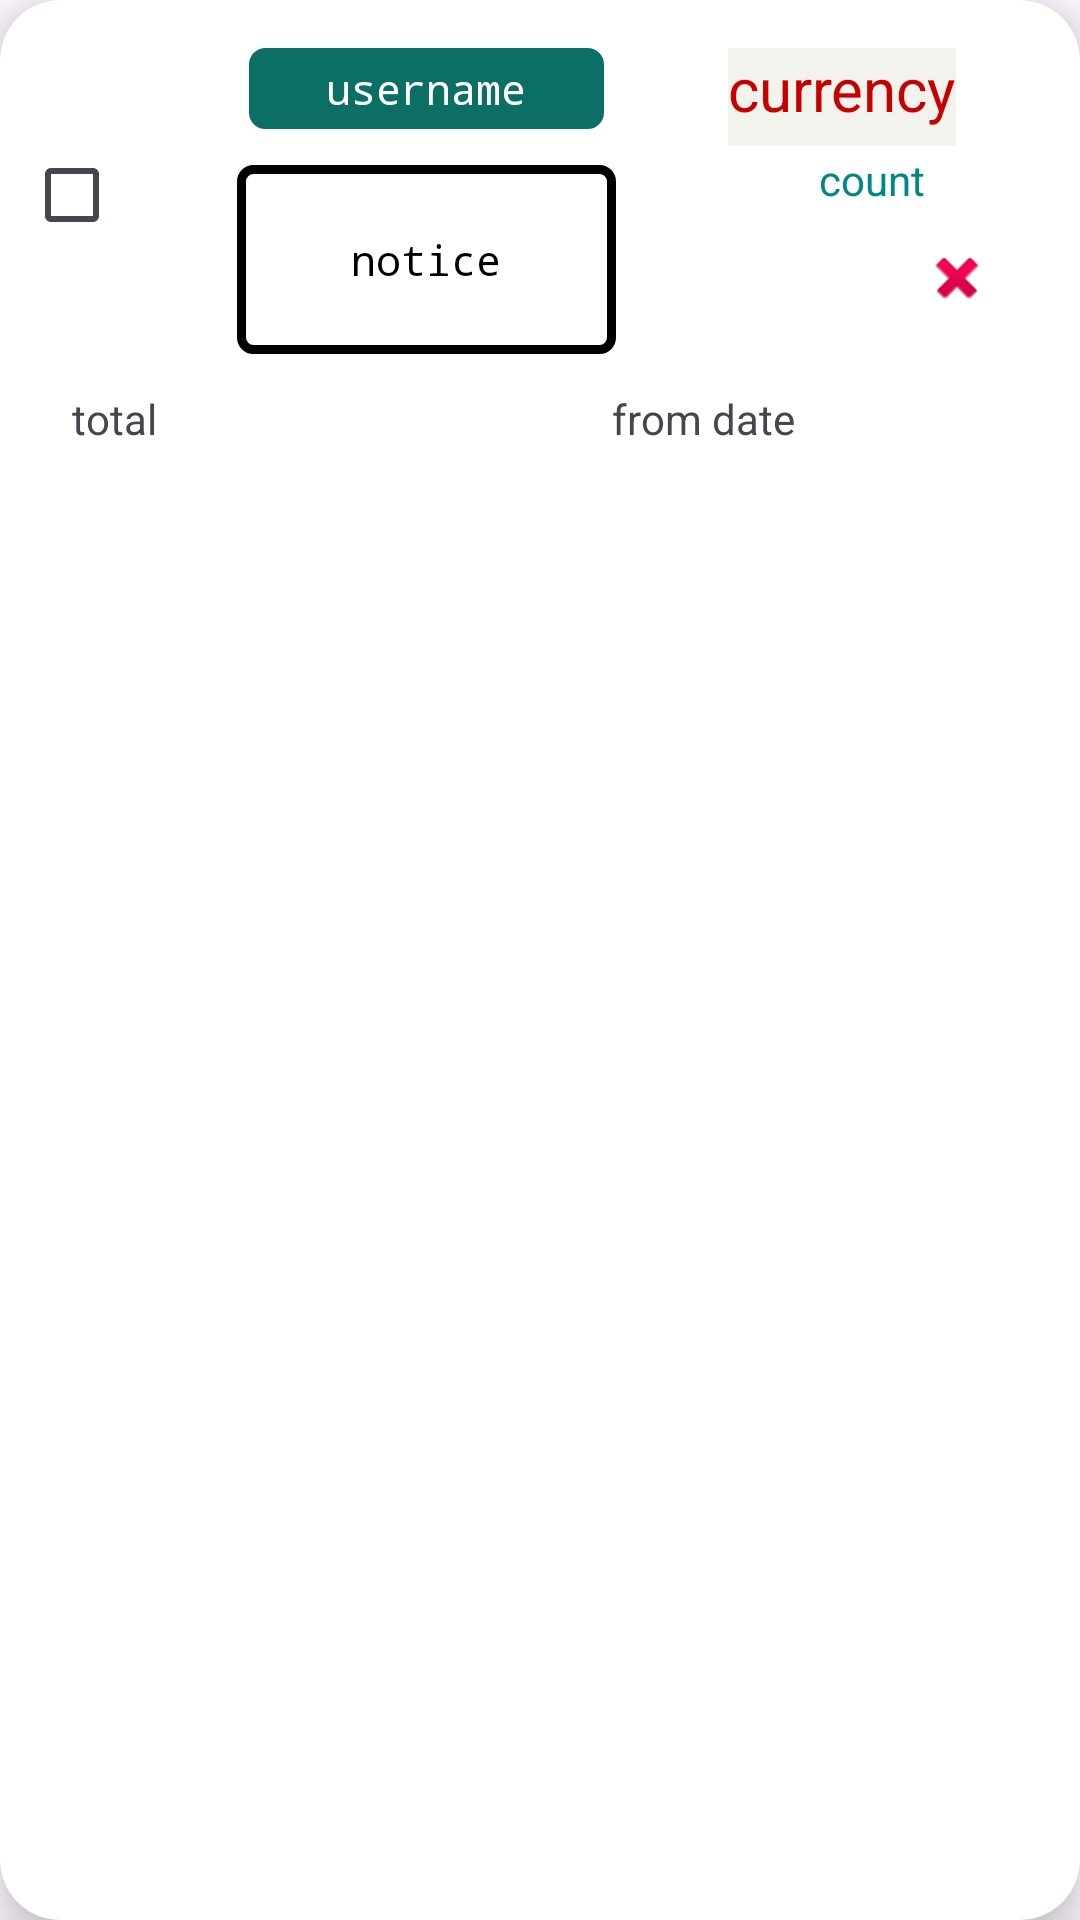

Icon click points for this 1080 × 1920 phone screenshot, format (x=x, y=y):
delete: (x=957, y=278)
